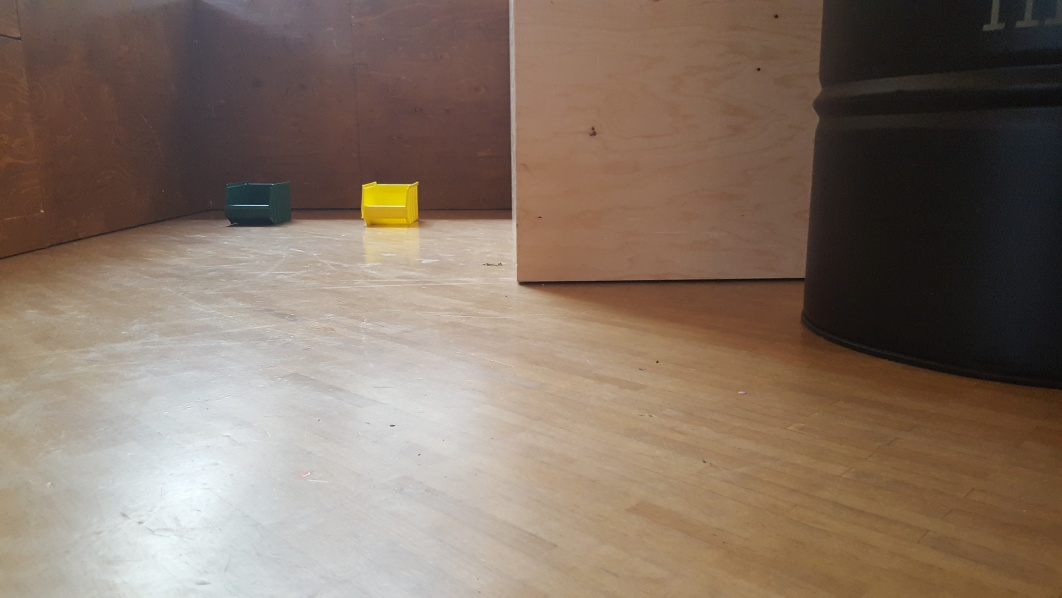tray: (354, 174, 428, 226), (221, 181, 295, 226)
